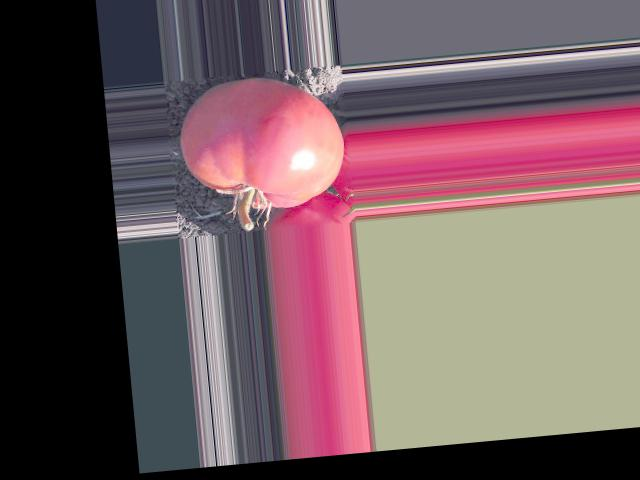tomato: (174, 70, 348, 215)
